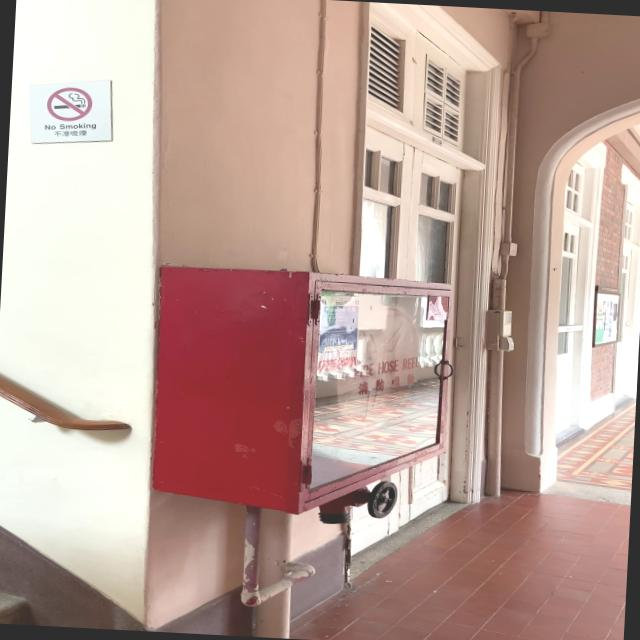room201: (432, 136, 442, 147)
